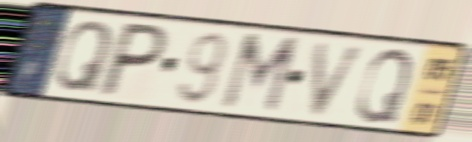9: (174, 29, 232, 108)
M: (216, 31, 304, 118)
P: (93, 19, 173, 100)
Q: (52, 17, 117, 95), (353, 46, 416, 126)
V: (308, 39, 371, 121)
